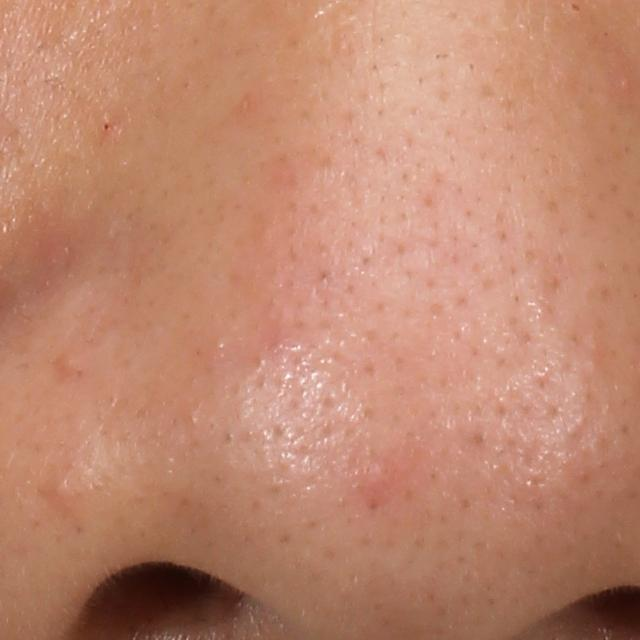comedo: (46, 473, 76, 500)
